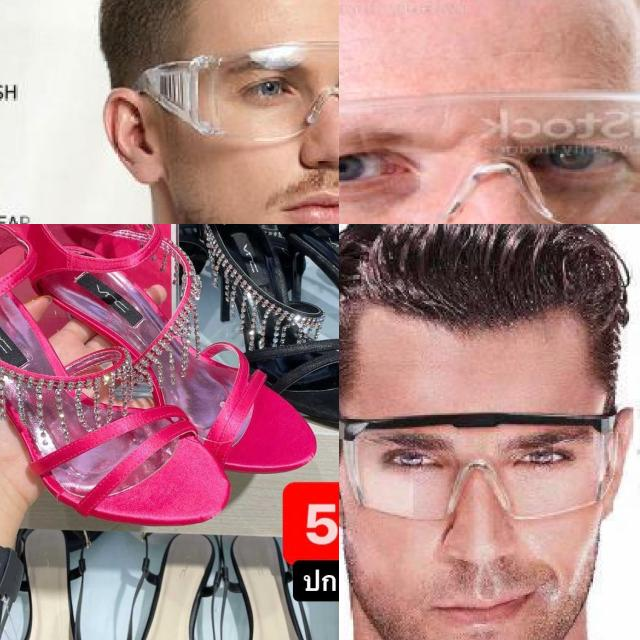No_Ear-Protection: (103, 86, 163, 183)
Sandals: (0, 224, 332, 530), (180, 224, 339, 447)
face_nomask: (367, 422, 585, 640), (339, 117, 623, 224), (231, 58, 339, 224)
glasses: (339, 83, 640, 224), (339, 407, 610, 524), (125, 39, 339, 143)
head_nohelmet: (339, 224, 613, 367)
person: (0, 0, 339, 224)
